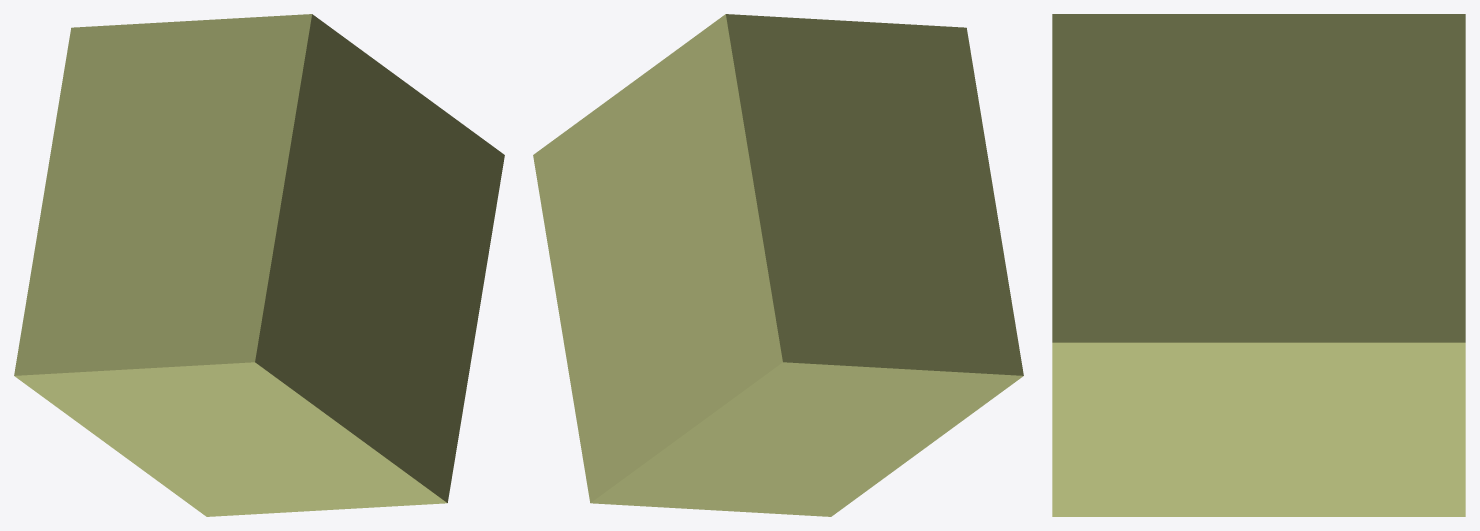
The picture shows the model from 3 angles, left to right: view 1: azimuth 30°, elevation 25°; view 2: azimuth 150°, elevation 25°; view 3: azimuth 270°, elevation 25°; orthographic projection. The views are drawn at different scales.
Visible parts, largest first — view 1: 0_1_0_0_1_0_2_2_2_1_1; view 2: 0_1_0_0_1_0_2_2_2_1_1; view 3: 0_1_0_0_1_0_2_2_2_1_1.
Boxes of the visible parts, x1=… form: 0_1_0_0_1_0_2_2_2_1_1: x1=14, y1=14, x2=504, y2=516; 0_1_0_0_1_0_2_2_2_1_1: x1=533, y1=14, x2=1023, y2=516; 0_1_0_0_1_0_2_2_2_1_1: x1=1052, y1=14, x2=1465, y2=516.
Bounding box in the file's own units: 8.04 × 9.78 × 9.
